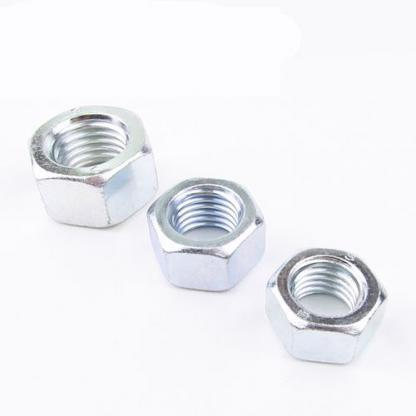FOD: (22, 100, 159, 228), (263, 243, 391, 369), (143, 176, 270, 294)
